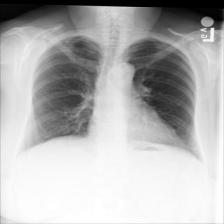normal: (14, 28, 205, 167)
